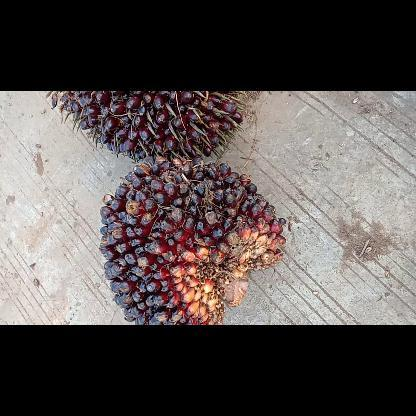TBS mentah: (100, 156, 286, 324), (44, 91, 245, 161)
